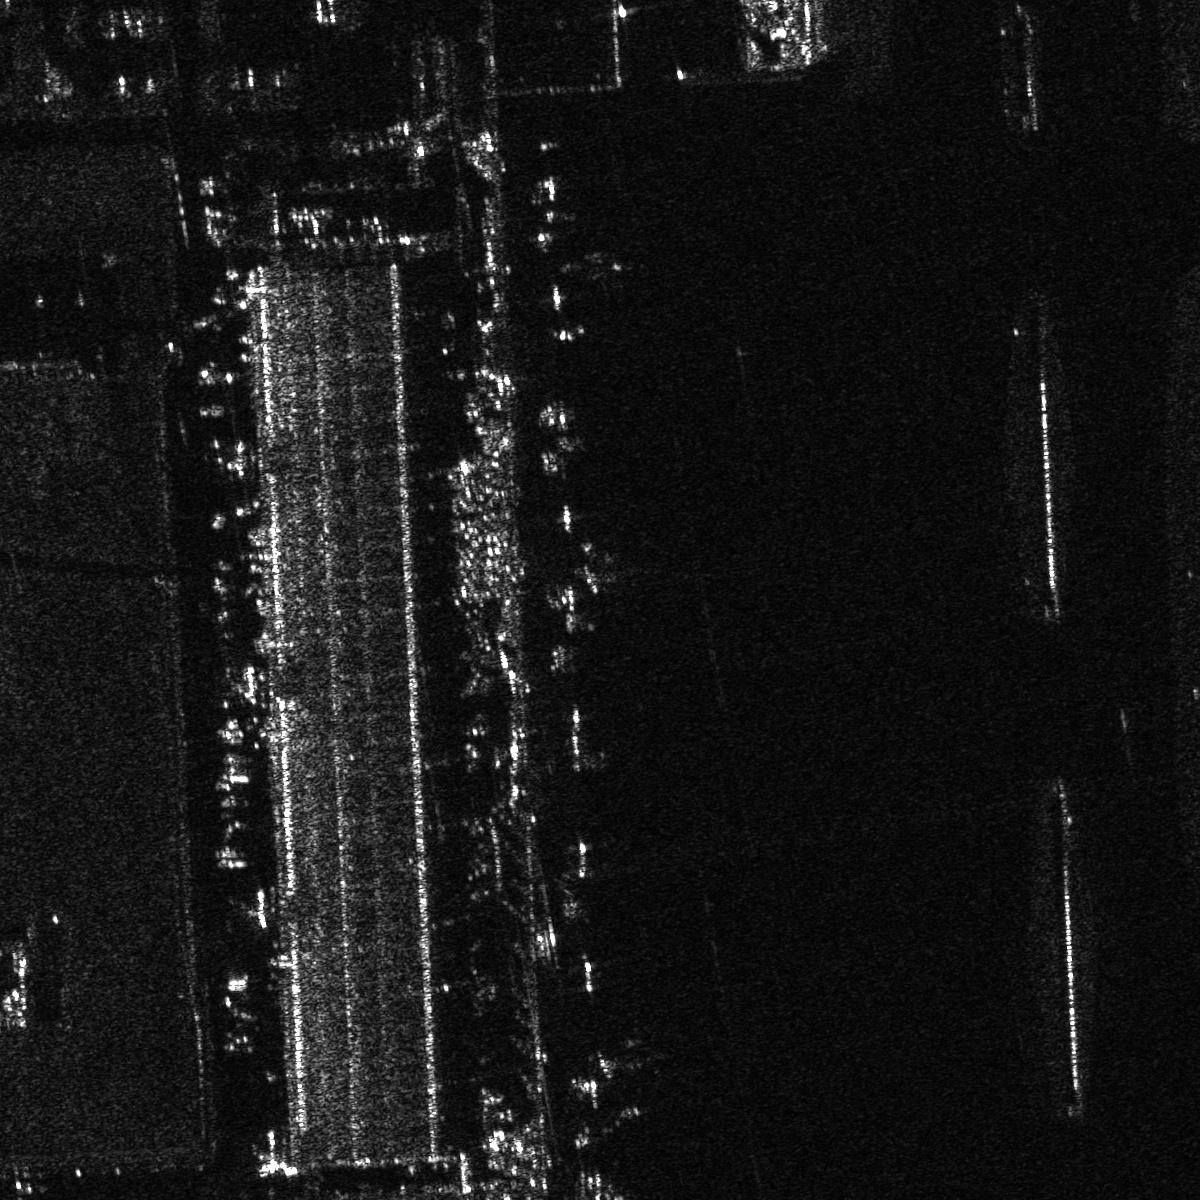Boeing737: (556, 247, 630, 289)
